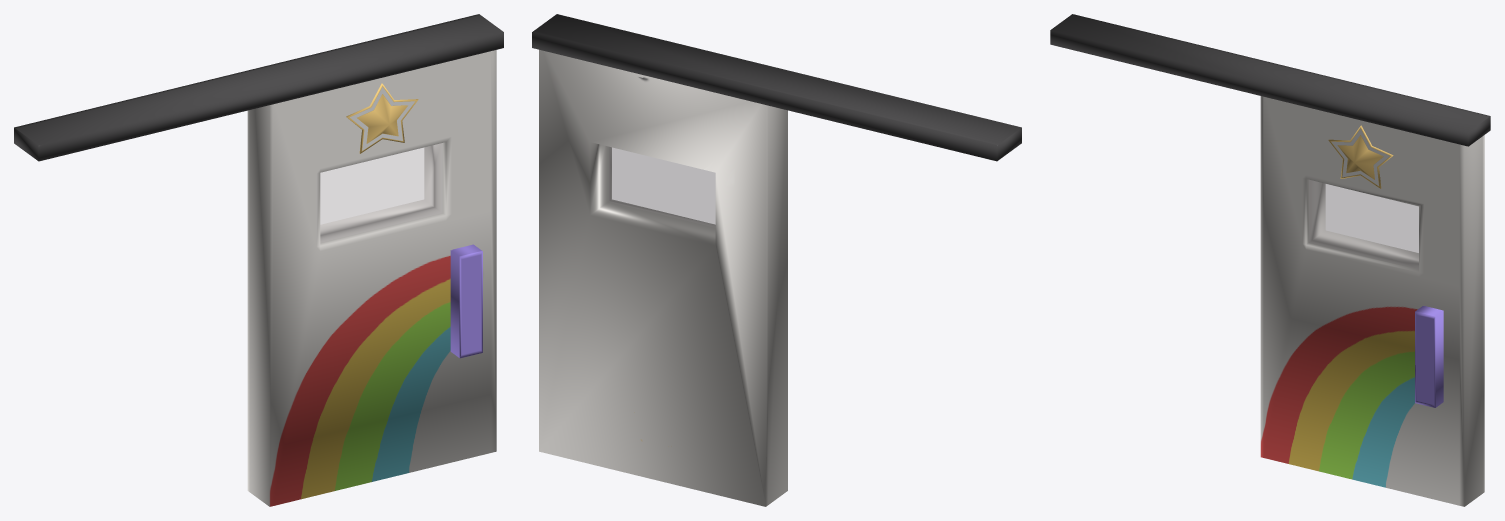
Rendered from Light_Door.fbx.
3 renders of one model, left to right at view 1: azimuth 30°, elevation 25°; view 2: azimuth 150°, elevation 25°; view 3: azimuth 330°, elevation 25°, orthographic. The views are drawn at different scales.
Visible parts, largest first — view 1: Light_Door, Light_DoorFrame; view 2: Light_Door, Light_DoorFrame; view 3: Light_Door, Light_DoorFrame.
Part boxes in pixels (x1=…): Light_Door: x1=247, y1=50, x2=496, y2=506; Light_DoorFrame: x1=14, y1=14, x2=503, y2=161; Light_Door: x1=539, y1=49, x2=787, y2=506; Light_DoorFrame: x1=532, y1=14, x2=1021, y2=161; Light_Door: x1=1260, y1=96, x2=1484, y2=506; Light_DoorFrame: x1=1050, y1=14, x2=1490, y2=146.
Bounding box in the file's own units: 264 × 227 × 32.02.
4 materials, 2 textured.
